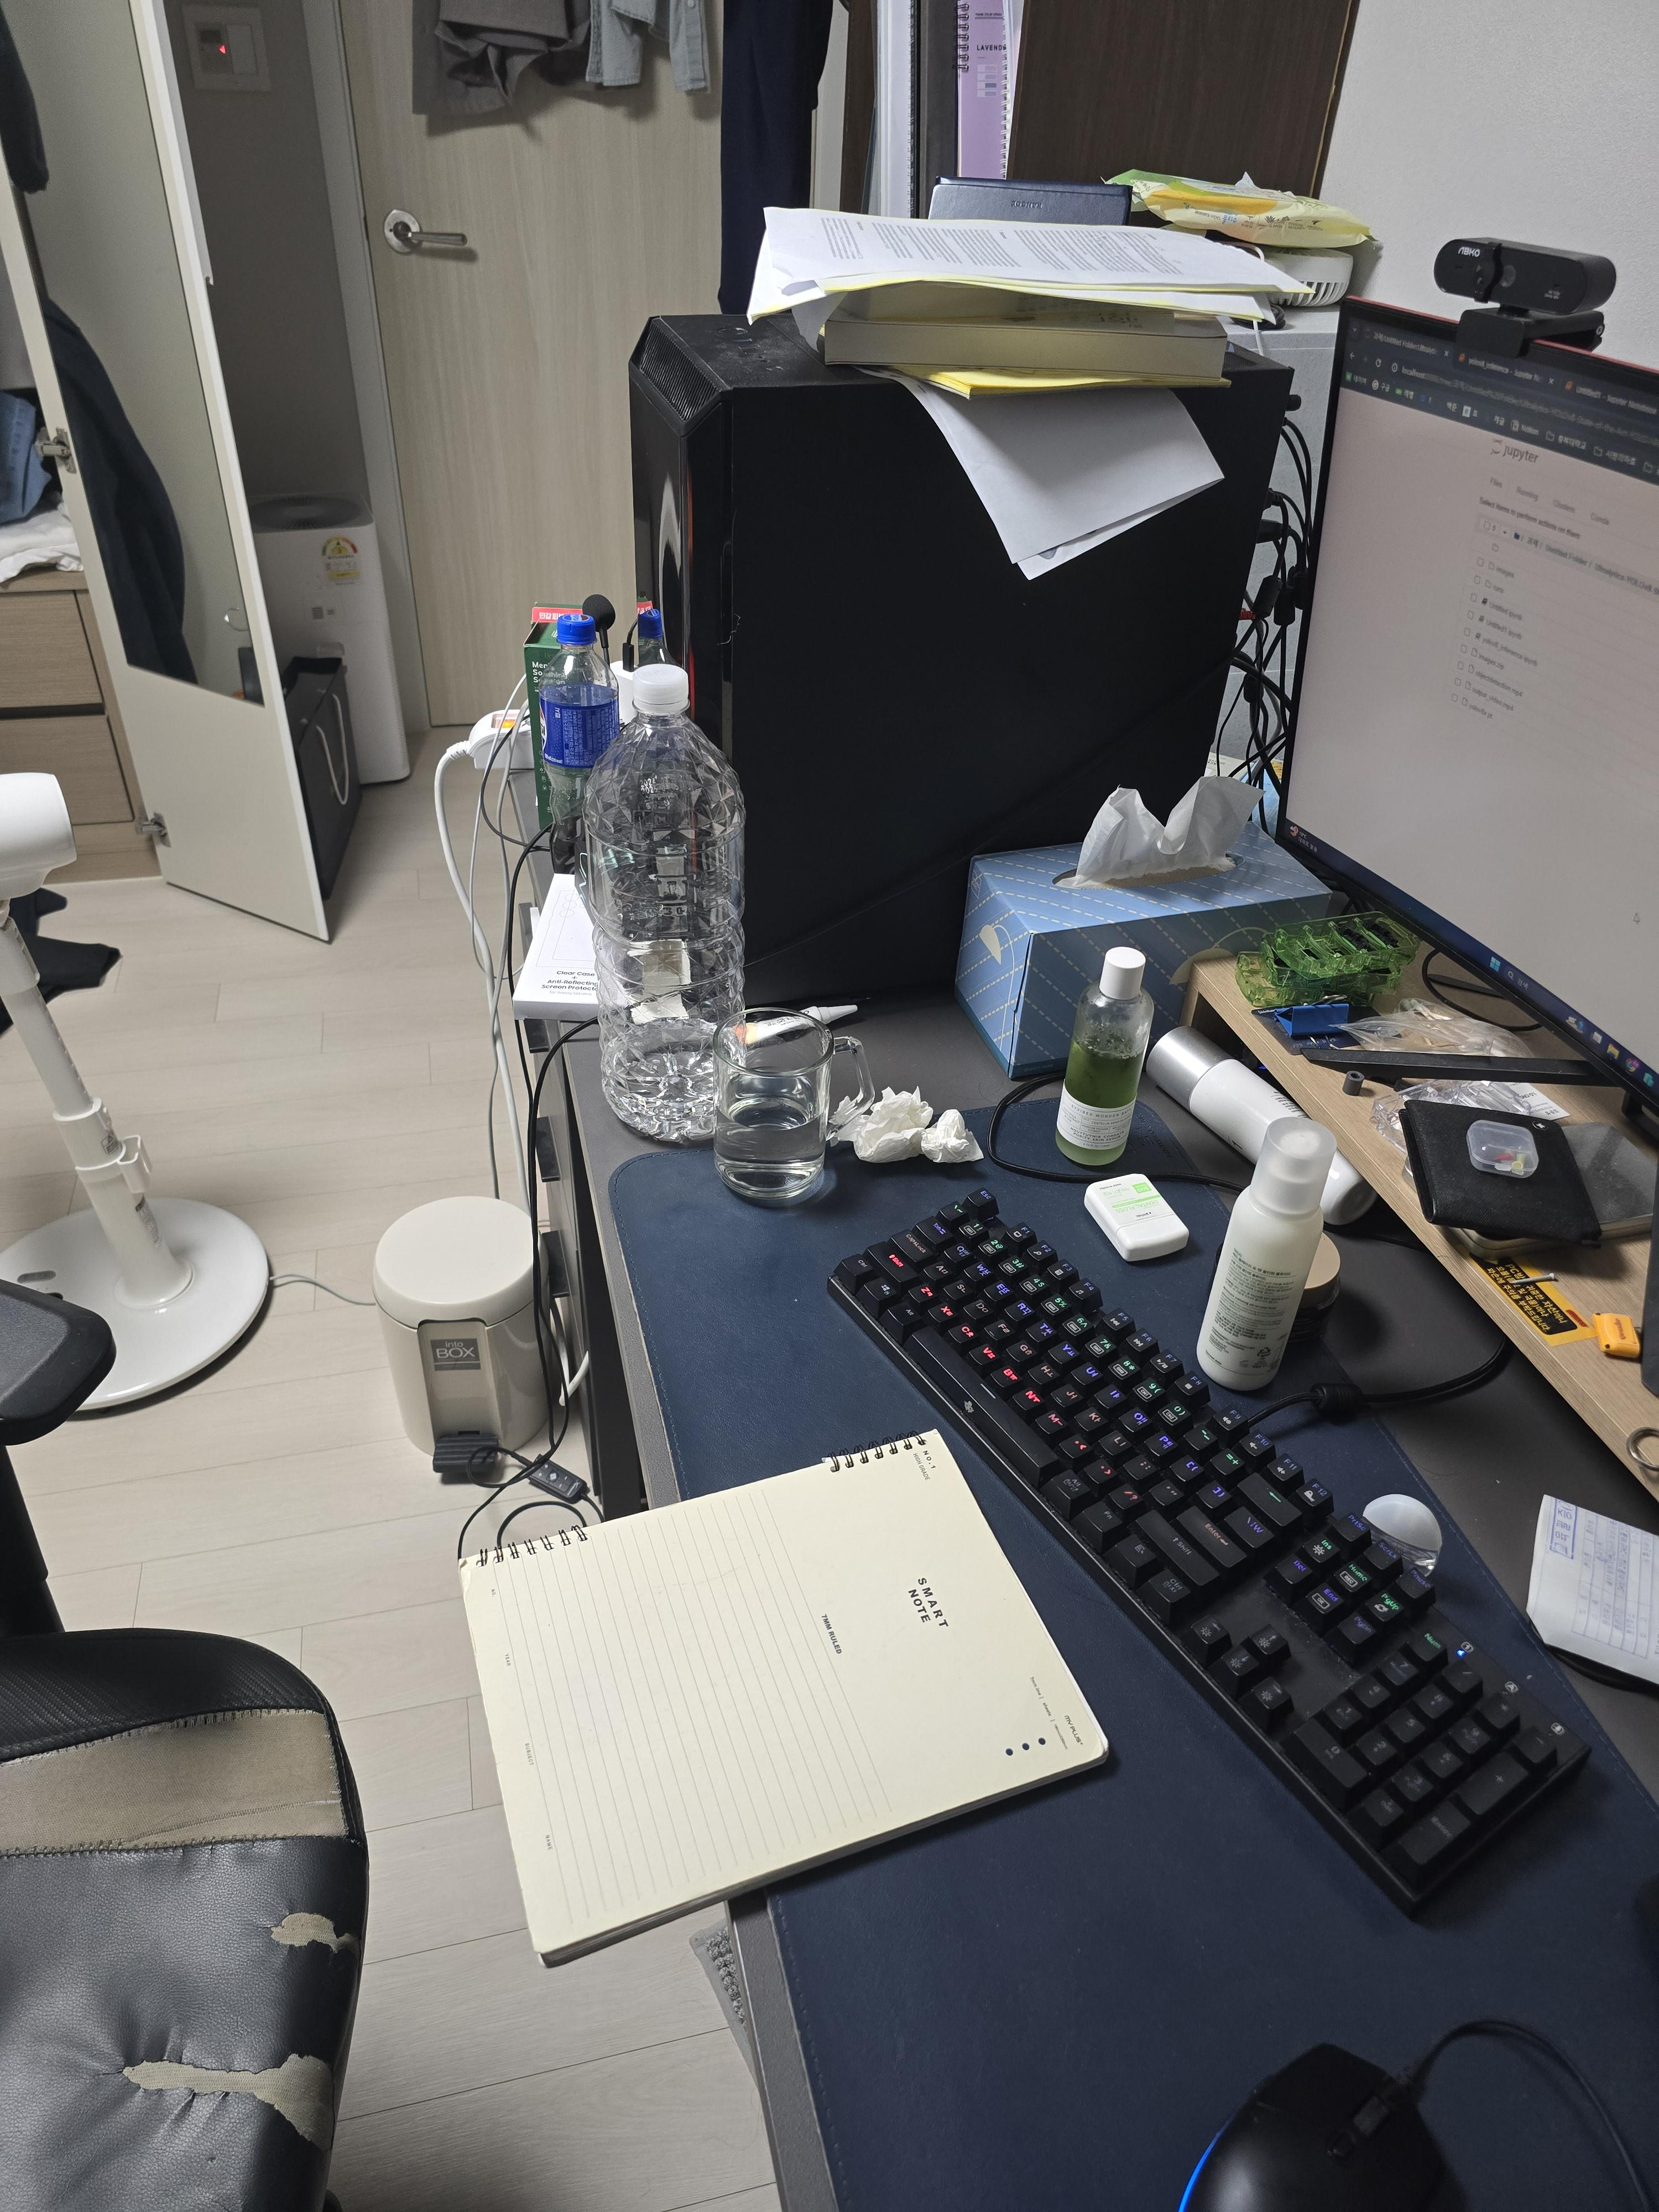book: (457, 1426, 1112, 1966), (760, 207, 1263, 404)
keyboard: (824, 1184, 1593, 1921)
mouse: (1176, 2040, 1452, 2210)
